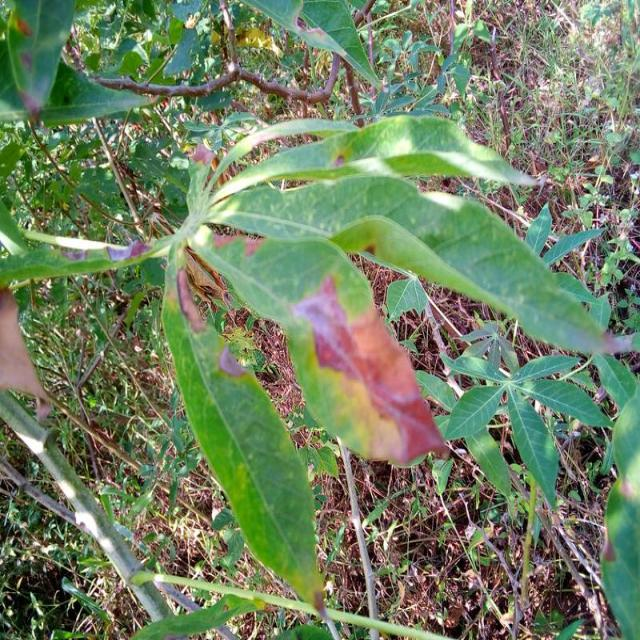cassava leaf: (202, 171, 628, 356), (188, 226, 448, 468), (159, 242, 325, 607), (204, 112, 542, 205)
